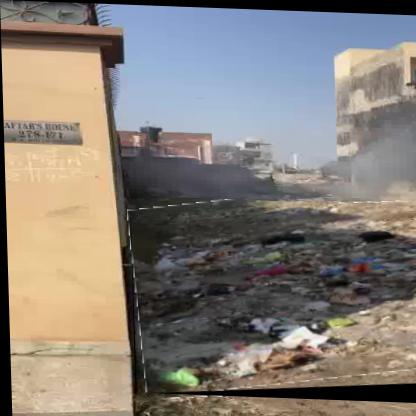Garbage: (129, 195, 416, 403)
